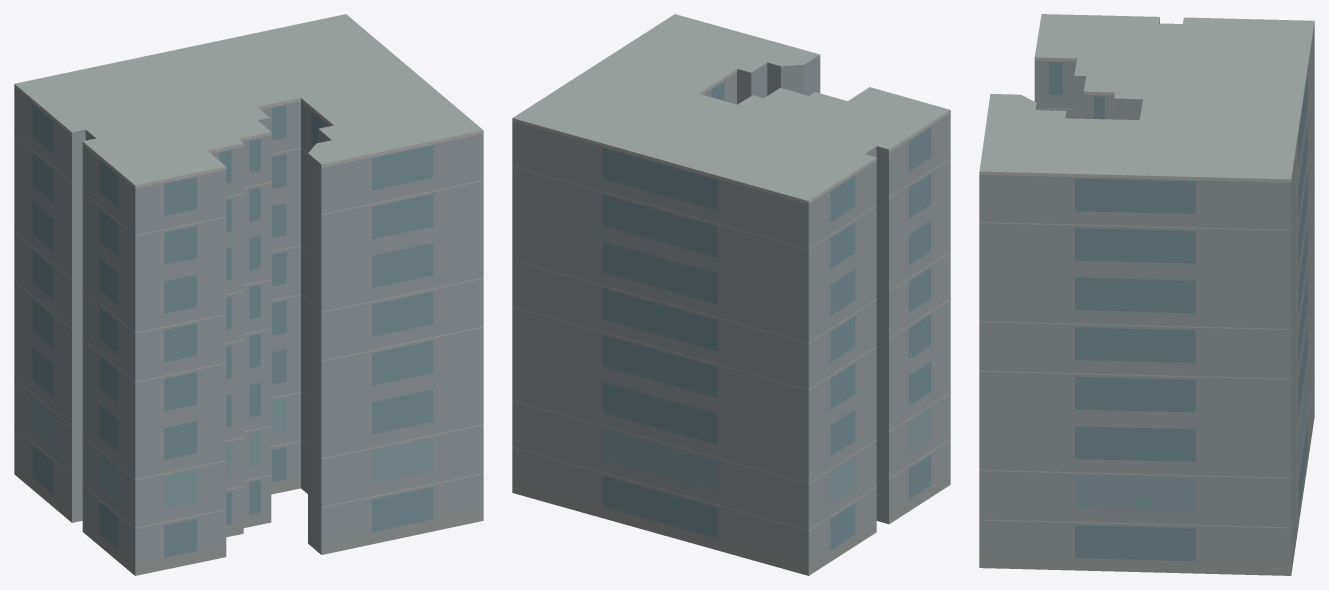
Rendered from survey-upis-32943126.glb.
3 views of the same model, side by side, from view 1: azimuth 30°, elevation 25°; view 2: azimuth 150°, elevation 25°; view 3: azimuth 270°, elevation 25° (orthographic). The views are drawn at different scales.
Visible parts, largest first — view 1: survey-upis-32943126.tmp; view 2: survey-upis-32943126.tmp; view 3: survey-upis-32943126.tmp.
Boxes of the visible parts, left/top/right/bottom form: survey-upis-32943126.tmp: left=14, top=14, right=483, bottom=575; survey-upis-32943126.tmp: left=512, top=14, right=950, bottom=575; survey-upis-32943126.tmp: left=979, top=14, right=1314, bottom=575.
Bounding box in the file's own units: 26.47 × 29.55 × 22.66.
